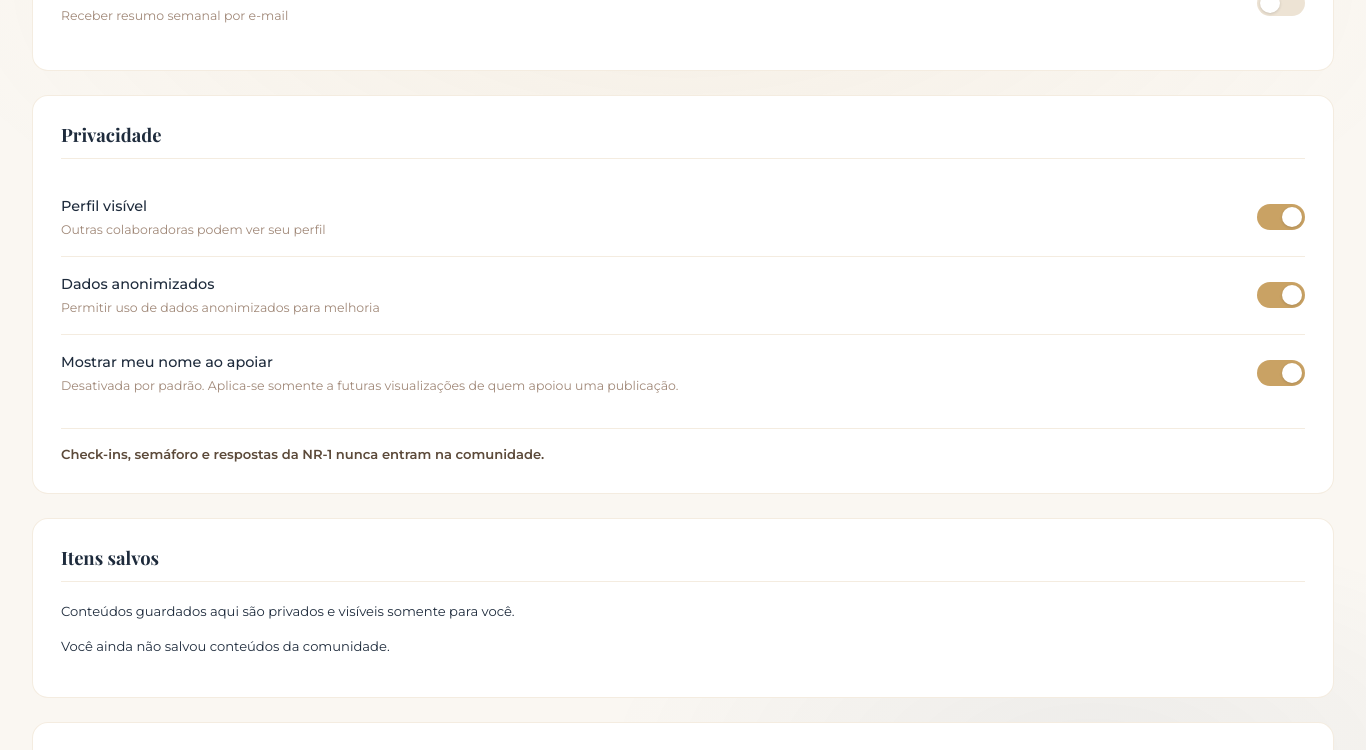
Test: supporter-name privacy toggle › restores the previous state and announces an accessible error
The width and height of the screenshot is (1366, 750).
(page scrolled)
Click the checkbox named "Mostrar meu nome ao apoiar".
click(1281, 373)  # box left=1257, top=360, right=1305, bottom=386
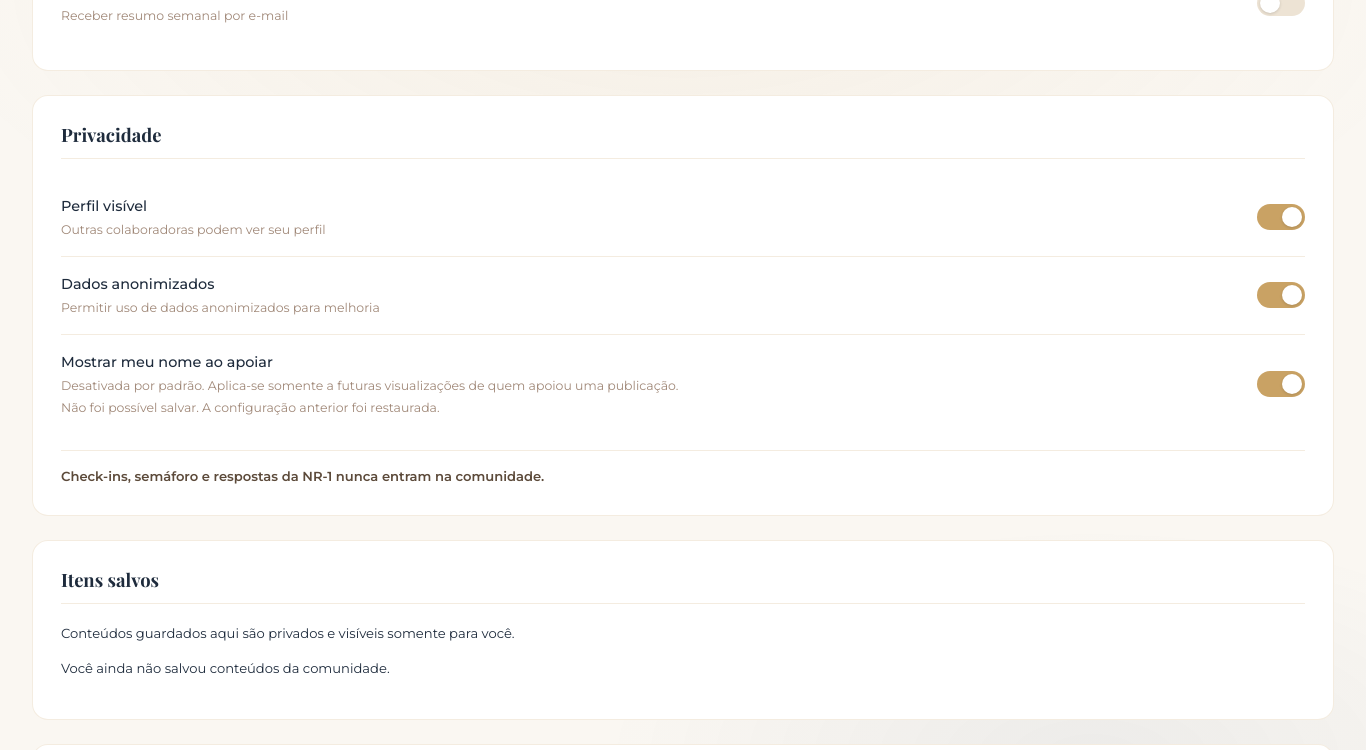
Expected: the checkbox named "Mostrar meu nome ao apoiar" is checked, left=1257, top=371, right=1305, bottom=397
Expected: the message shows "configuração anterior foi restaurada", left=61, top=400, right=440, bottom=415
